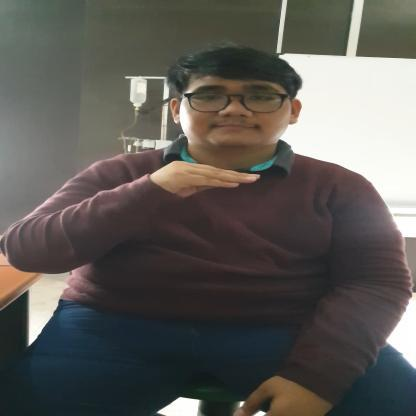Malam: (147, 158, 268, 200)
